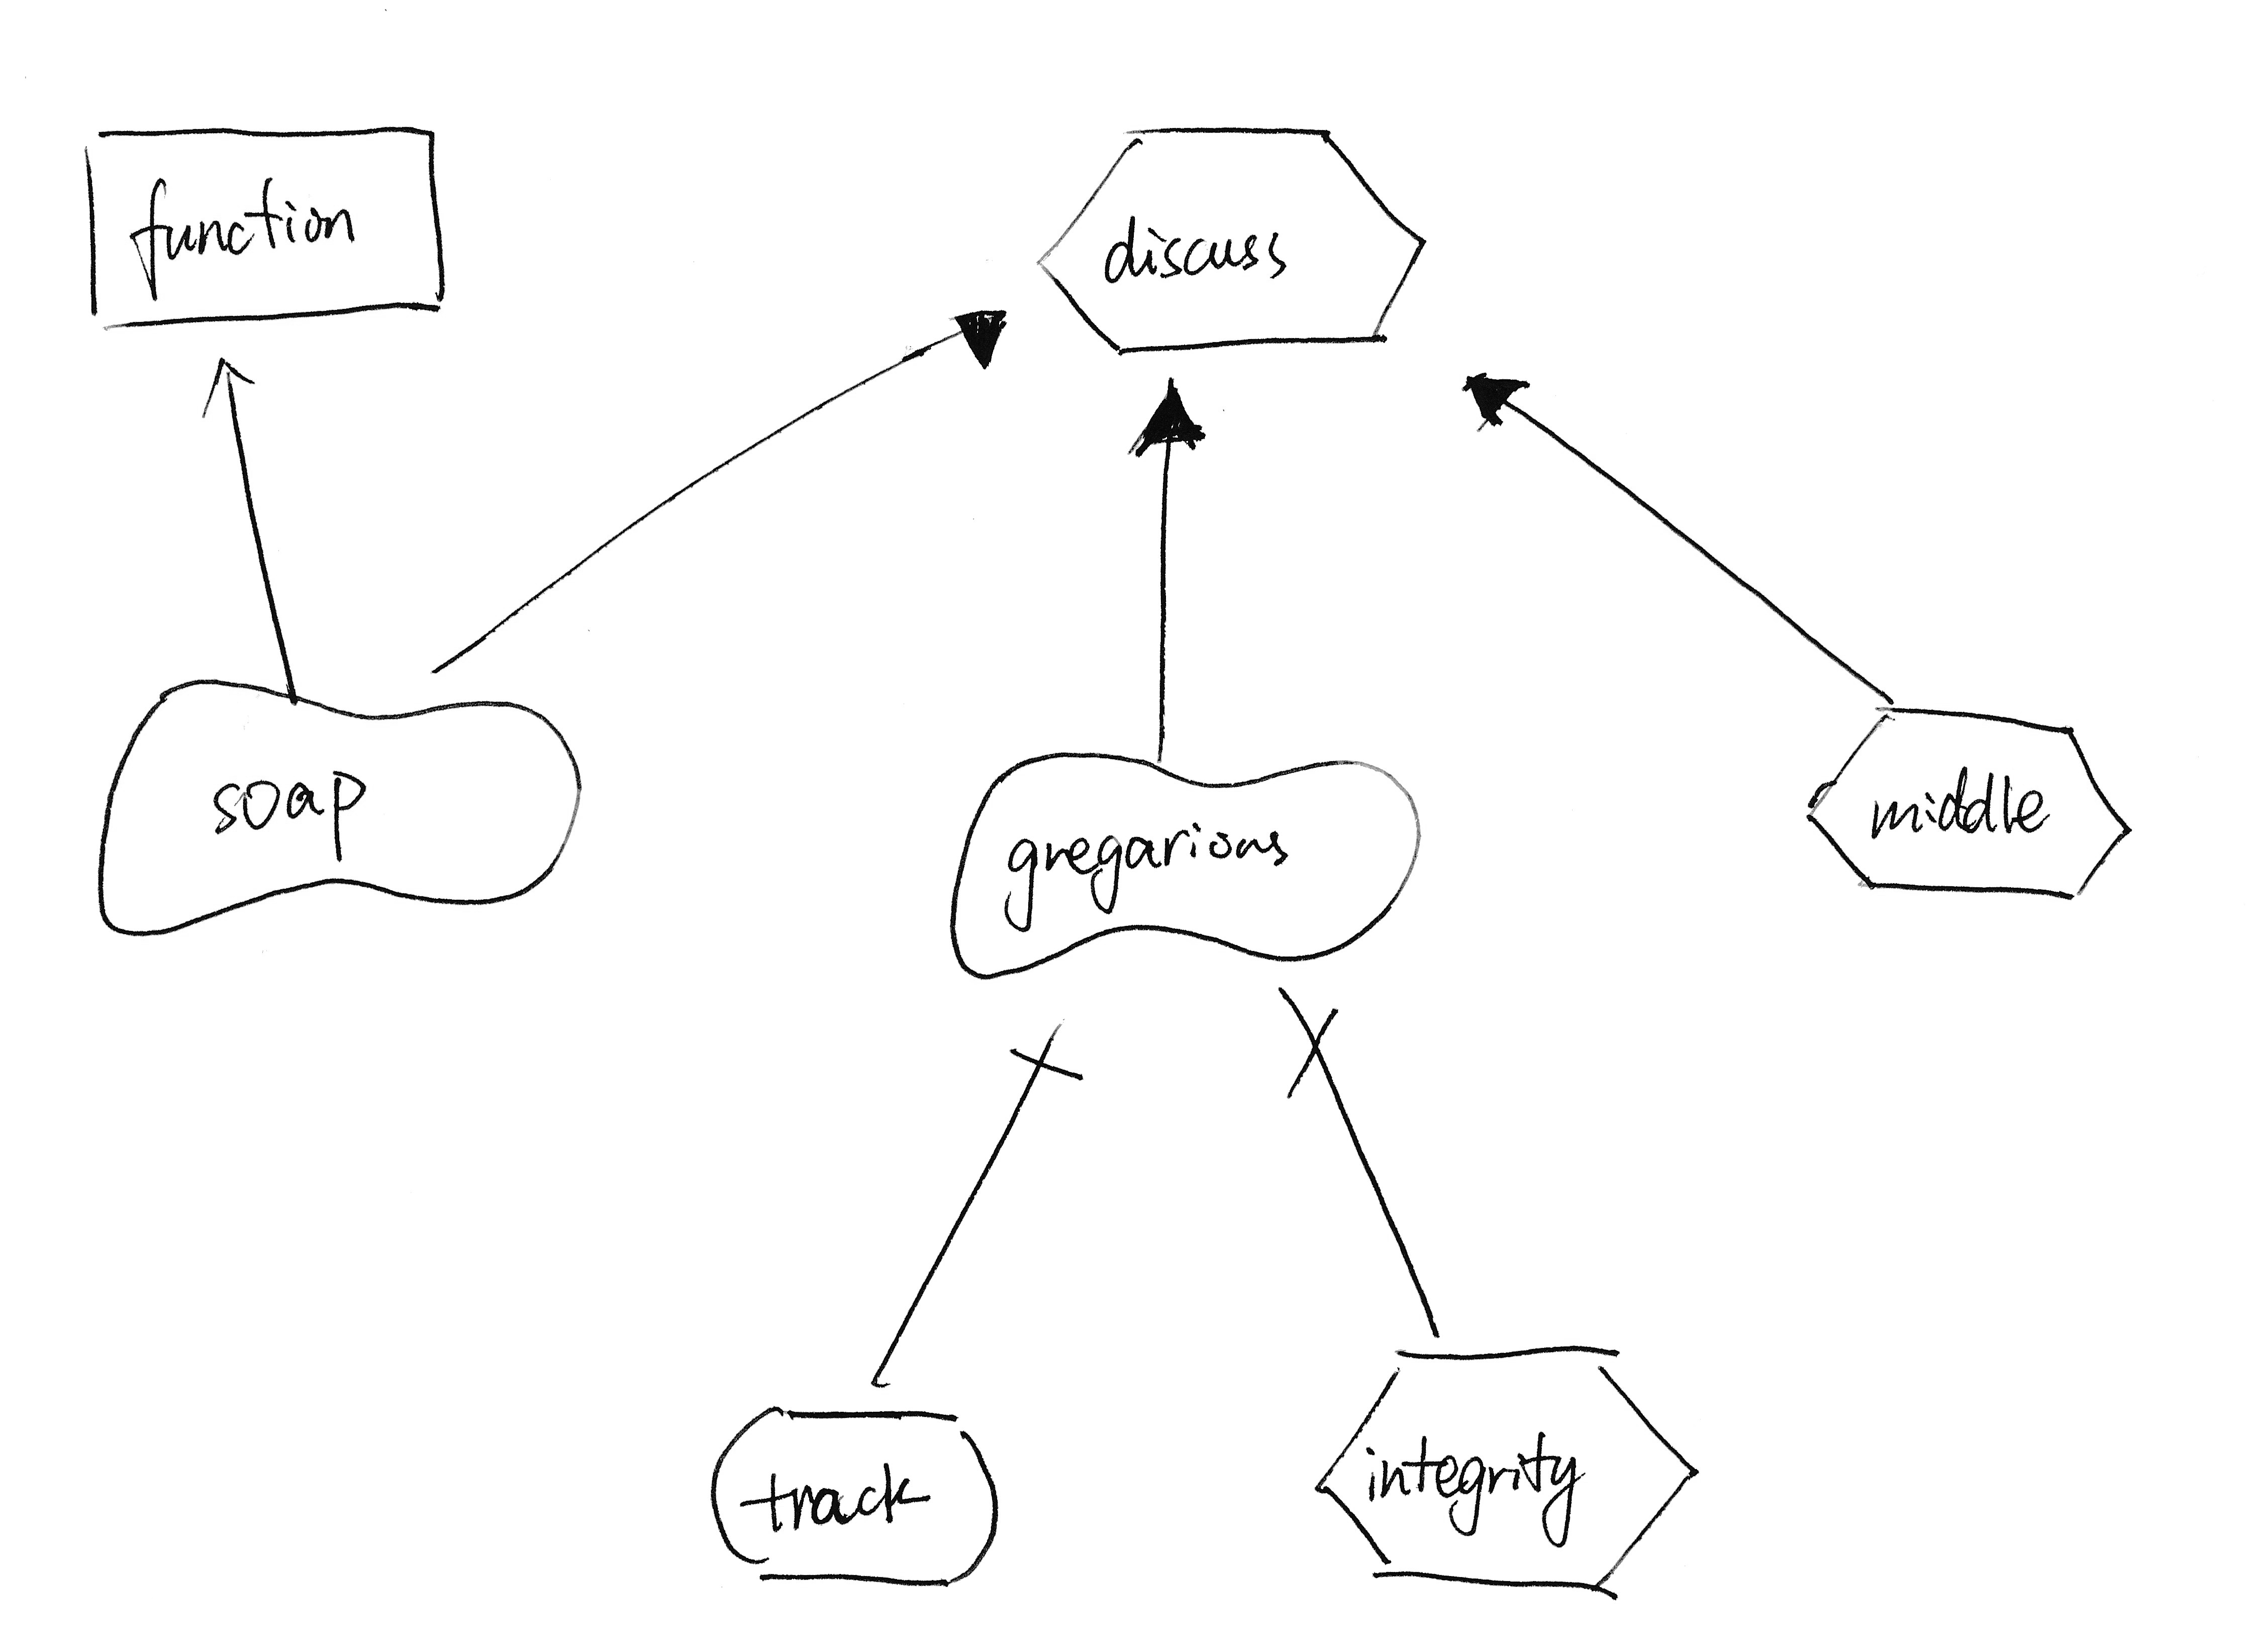and: (1264, 986, 1350, 1108), (1001, 1023, 1093, 1110)
arrow: (185, 345, 267, 437)
goal: (699, 1378, 1010, 1601)
or: (1107, 366, 1215, 469), (1449, 361, 1542, 444), (943, 293, 1018, 390)
quality: (73, 657, 600, 948), (922, 735, 1432, 993)
resource: (61, 99, 457, 350)
task: (1290, 1330, 1723, 1614), (1027, 101, 1449, 385), (1786, 692, 2141, 910)
